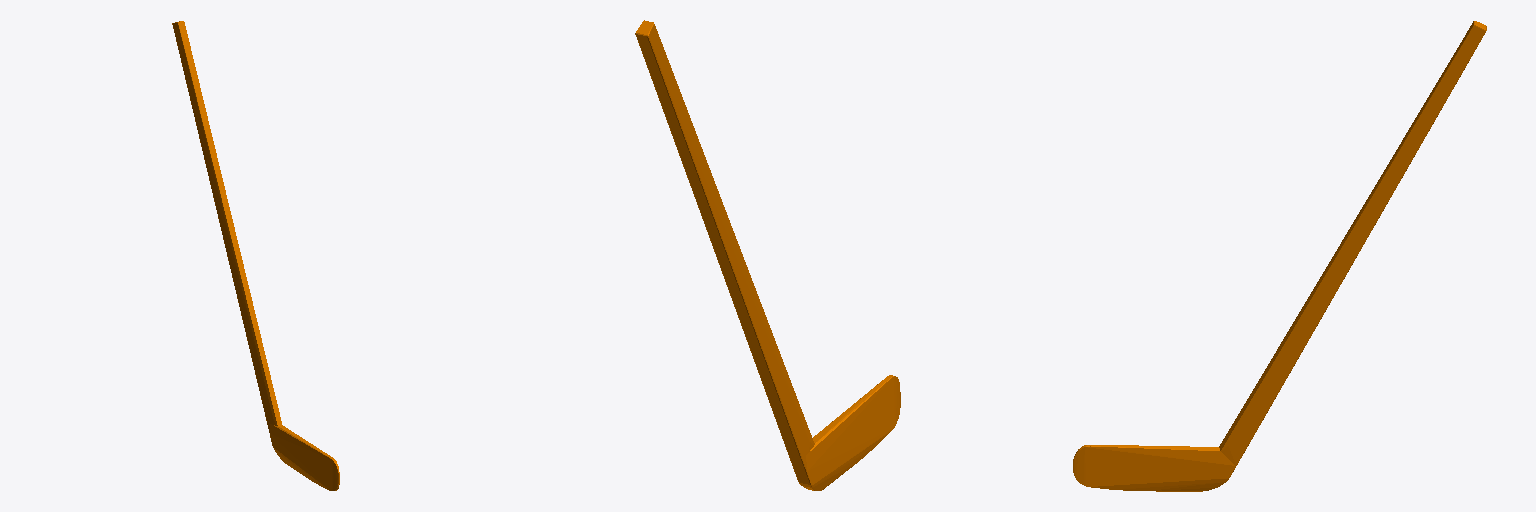
The robot description file, URDF, robot "hockey_stick":
<?xml version="1.0"?>
<robot name="hockey_stick">
    <link name="robot_base">
        <inertial>
            <origin rpy="-0.695240 3.141593 -3.141593" xyz="0.000228 -0.014521 0.079045" />
            <inertia ixz="-7.876868292963e-08" ixx="3.2528697286709e-05" iyz="3.3373566270136e-06" iyy="3.1507984749972e-05" izz="1.0371174309247e-06" ixy="-7.81353615775e-09" />
            <mass value="0.0055021736770868" />
        </inertial>
        <collision name="hockey_stick">
            <origin rpy="-0.695240 3.141593 -3.141593" xyz="0.000000 0.000000 0.100000" />
            <geometry>
                <mesh filename="meshes/visual/hockey_stick_robot_base_coll_1.dae" />
            </geometry>
        </collision>
        <collision name="hockey_stick">
            <origin rpy="-0.695240 3.141593 -3.141593" xyz="0.000000 0.000000 0.100000" />
            <geometry>
                <mesh filename="meshes/visual/hockey_stick_robot_base_coll_2.dae" />
            </geometry>
        </collision>
        <visual name="hockey_stick">
            <origin rpy="-0.695240 3.141593 -3.141593" xyz="0.000000 0.000000 0.100000" />
            <geometry>
                <mesh filename="meshes/visual/hockey_stick_robot_base_vis_1.dae" />
            </geometry>
            <material name="robot_base_material">
                <color rgba="0.900000 0.514286 0.000000 1.0" />
            </material>
        </visual>
        <visual name="hockey_stick">
            <origin rpy="-0.695240 3.141593 -3.141593" xyz="0.000000 0.000000 0.100000" />
            <geometry>
                <mesh filename="meshes/visual/hockey_stick_robot_base_vis_2.dae" />
            </geometry>
            <material name="robot_base_material">
                <color rgba="0.880000 0.502857 0.000000 1.0" />
            </material>
        </visual>
    </link>
</robot>

--- Render facts (derived) ---
3 views of the same robot in one strip: view 1: azimuth 30°, elevation 25°; view 2: azimuth 150°, elevation 25°; view 3: azimuth 270°, elevation 25° (orthographic).
Robot: hockey_stick — 1 links, 0 joints (none); root link robot_base; default pose: every joint at zero.
Visible links, largest first — view 1: robot_base; view 2: robot_base; view 3: robot_base.
Link boxes in pixels (x1=…): robot_base: x1=172, y1=21, x2=339, y2=490; robot_base: x1=635, y1=20, x2=900, y2=490; robot_base: x1=1073, y1=21, x2=1486, y2=491.
Size in the robot's own frame: 0.0049 by 0.168 by 0.2098 metres.
2 mesh visuals loaded from 2 distinct referenced files (2 Collada DAE).